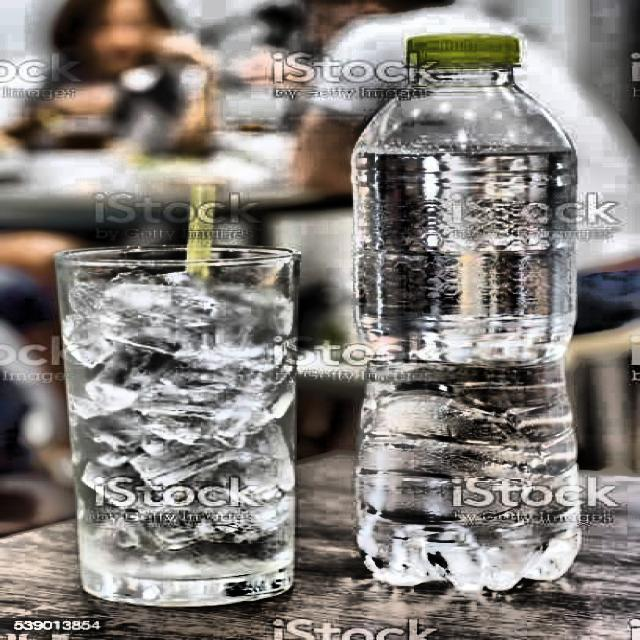Bottles: (332, 24, 604, 616)
